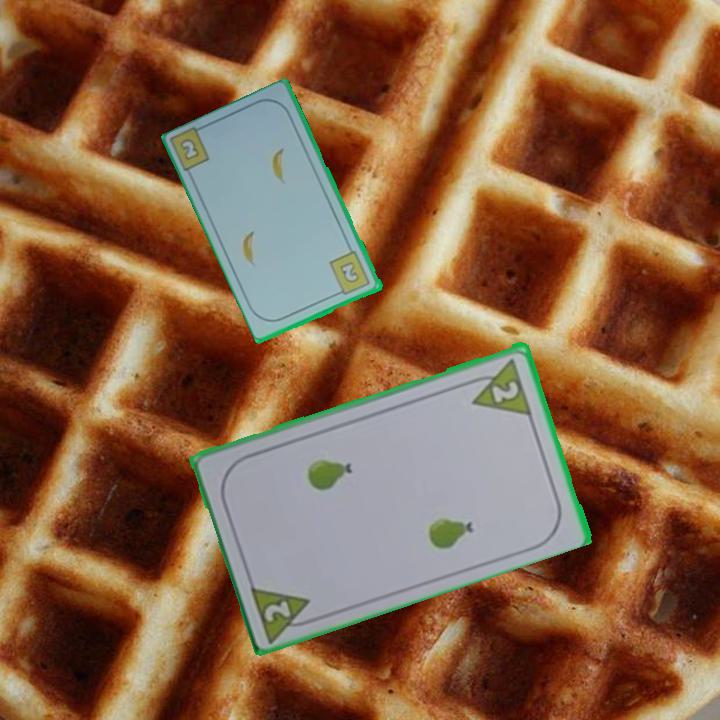2b: (326, 248, 374, 298), (176, 135, 203, 163)
2p: (246, 580, 321, 643), (488, 376, 522, 405)
